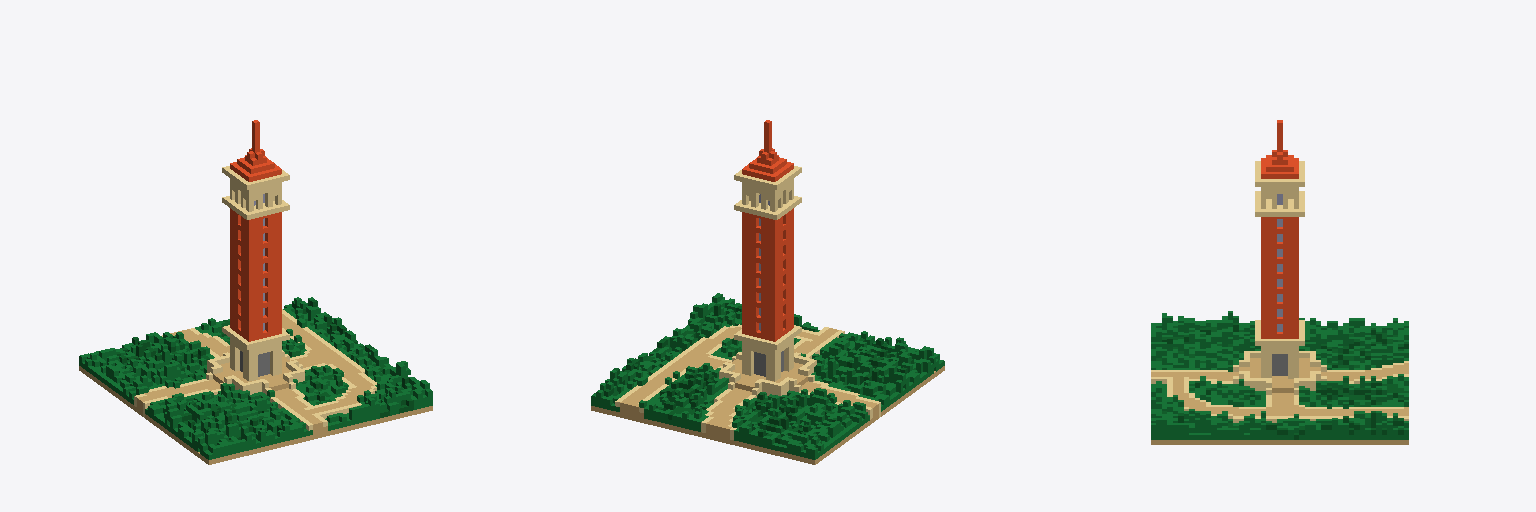
3 views of the same model, side by side, from view 1: azimuth 30°, elevation 25°; view 2: azimuth 150°, elevation 25°; view 3: azimuth 270°, elevation 25° (orthographic).
Visible parts, largest first — view 1: 钟楼; view 2: 钟楼; view 3: 钟楼.
Part boxes in pixels (x1,y1,x2,y2): 钟楼: (79,120,432,464); 钟楼: (591,120,944,464); 钟楼: (1151,120,1408,444).
Size of the model in its own units: 47 by 54 by 47.
Materials: 1 (1 with a texture image).